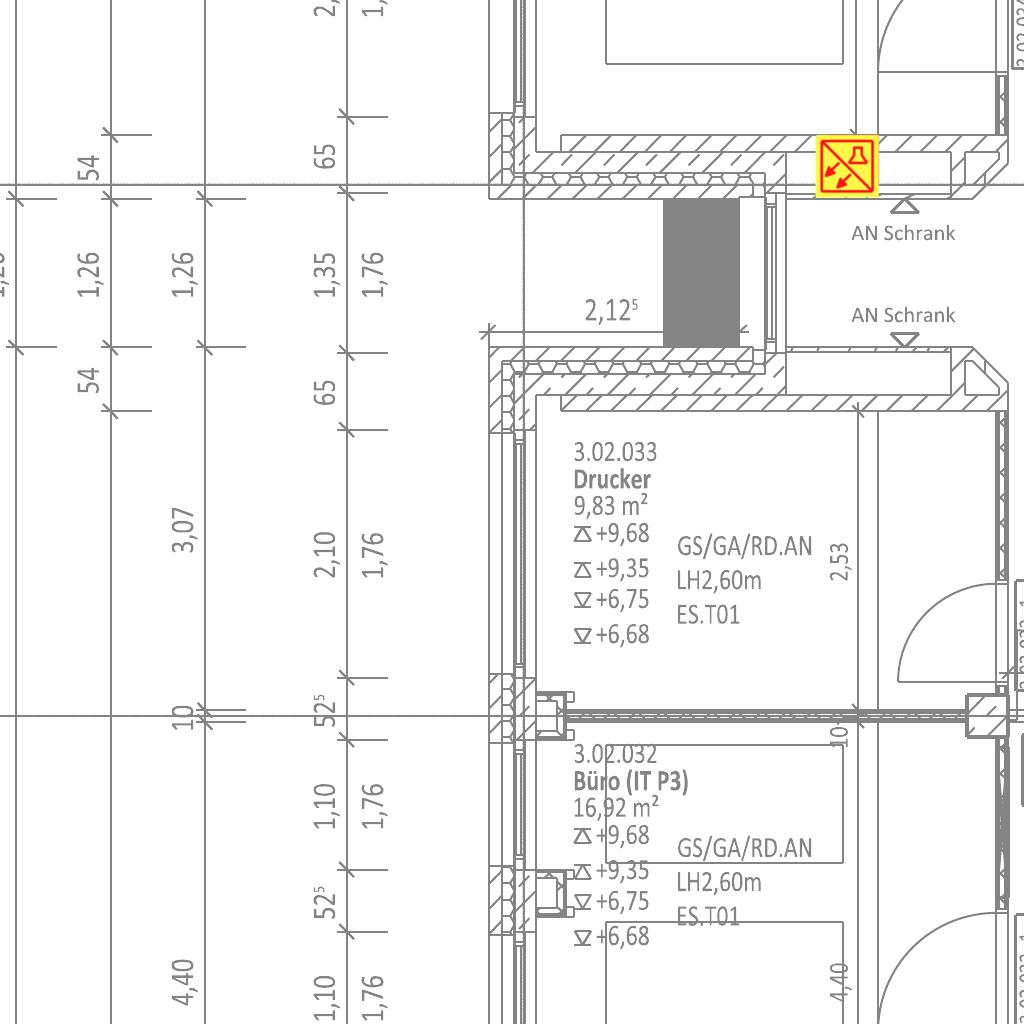OKW_Multisensormelder_(Kombination_optischer_Rauch-Kahlenmonoxid_Waerme-Melder): (814, 133, 880, 199)
